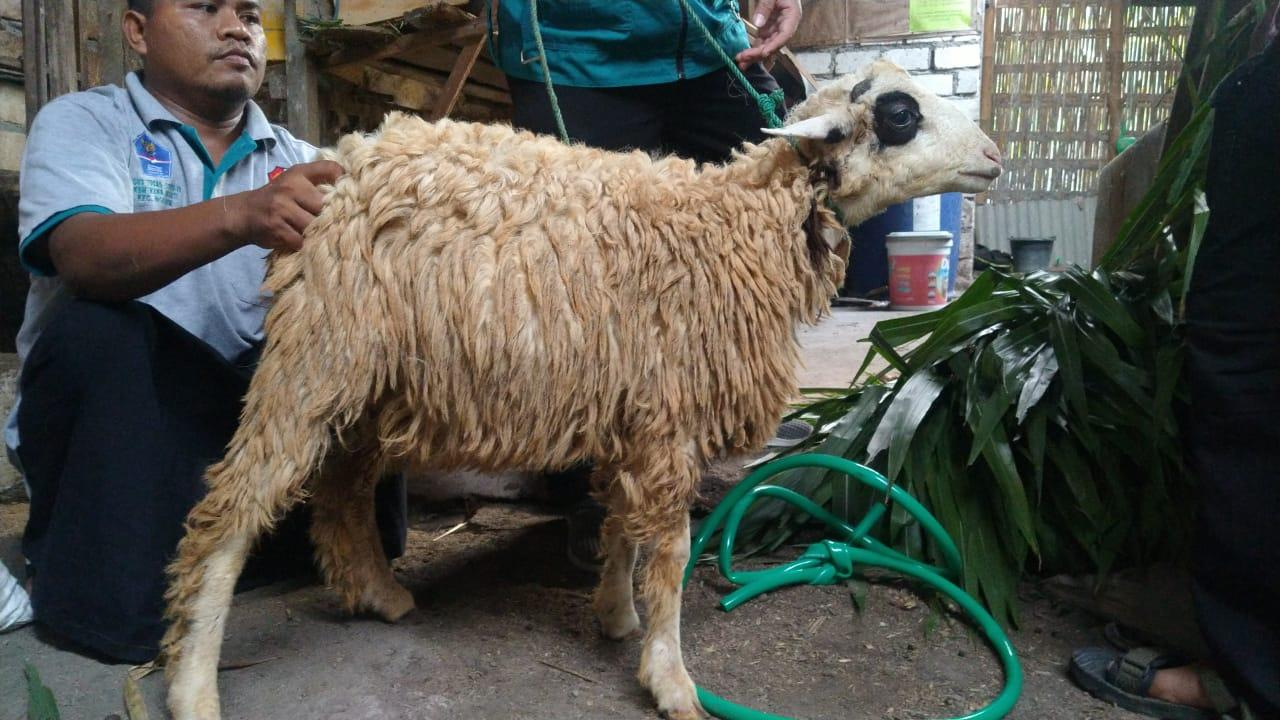Sheep: (754, 46, 1016, 287)
